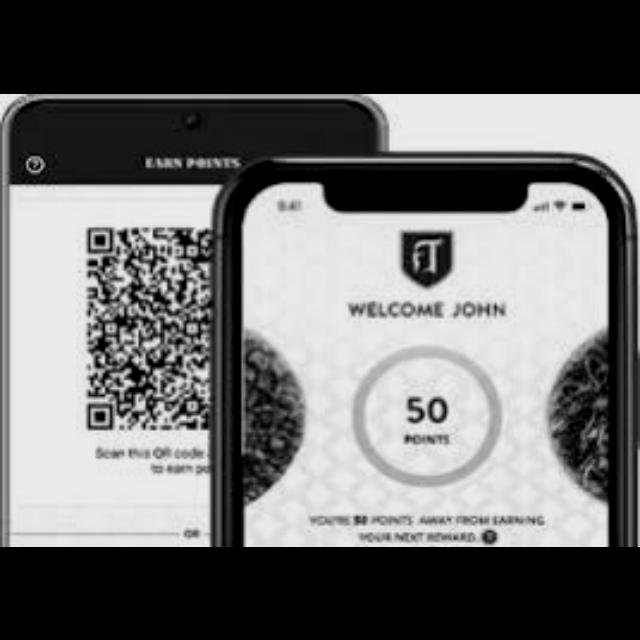fake: (208, 154, 640, 546)
